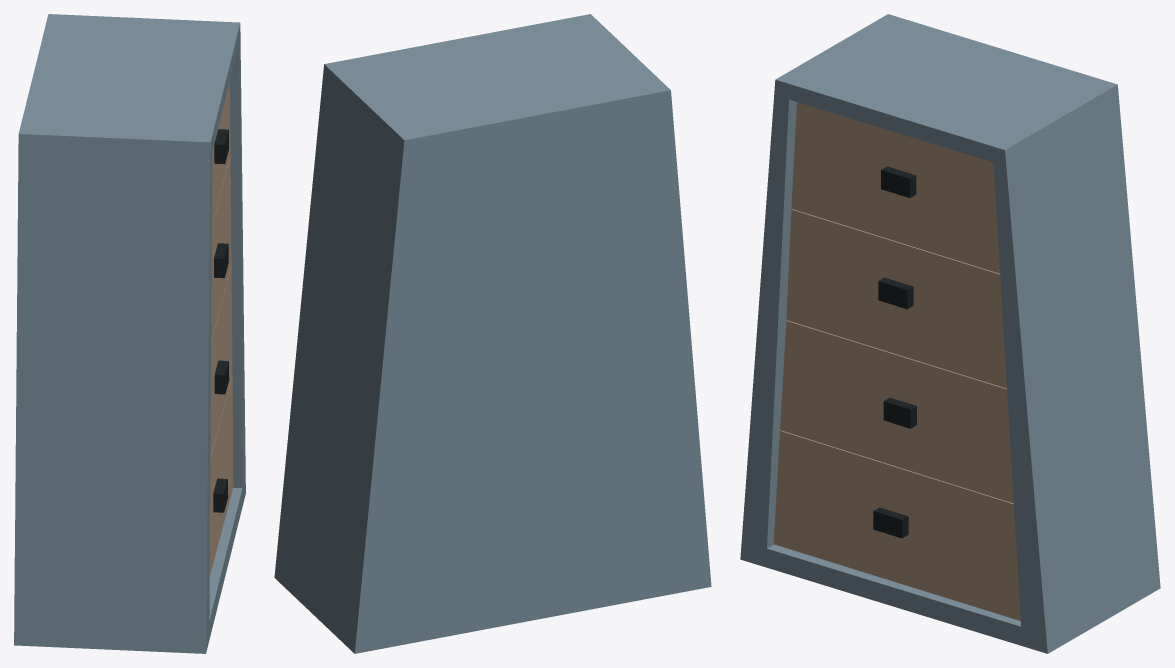
Rendered from basement locker static.fbx.
3 renders of one model, left to right at view 1: azimuth 30°, elevation 25°; view 2: azimuth 150°, elevation 25°; view 3: azimuth 270°, elevation 25°, orthographic. The views are drawn at different scales.
Visible parts, largest first — view 1: locker basement, locker basement door 4, locker basement door 3, locker basement door 2, locker basement door 1; view 2: locker basement; view 3: locker basement, locker basement door 4, locker basement door 3, locker basement door 2, locker basement door 1.
Boxes of the visible parts, <box> form: locker basement: <box>14,14,245,653</box>; locker basement door 4: <box>209,376,233,576</box>; locker basement door 3: <box>210,266,232,457</box>; locker basement door 2: <box>211,156,231,340</box>; locker basement door 1: <box>212,81,230,224</box>; locker basement: <box>274,14,711,653</box>; locker basement: <box>740,14,1160,653</box>; locker basement door 4: <box>773,430,1020,620</box>; locker basement door 3: <box>780,320,1013,503</box>; locker basement door 2: <box>786,209,1006,388</box>; locker basement door 1: <box>791,102,999,273</box>.
Size of the model in its own units: 0.9673 by 1.38 by 1.07.
